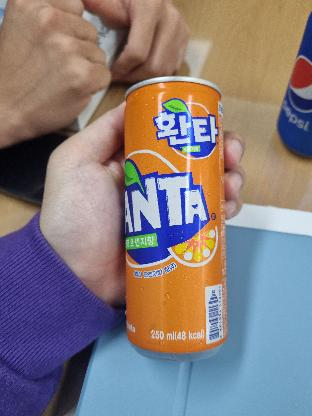Can: (125, 80, 235, 354)
